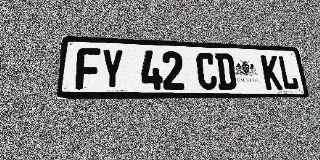2: (162, 51, 184, 90)
4: (141, 50, 163, 90)
C: (196, 52, 218, 90)
D: (215, 53, 237, 90)
F: (75, 48, 100, 90)
K: (260, 55, 283, 90)
L: (277, 55, 299, 90)
Y: (100, 49, 123, 90)
